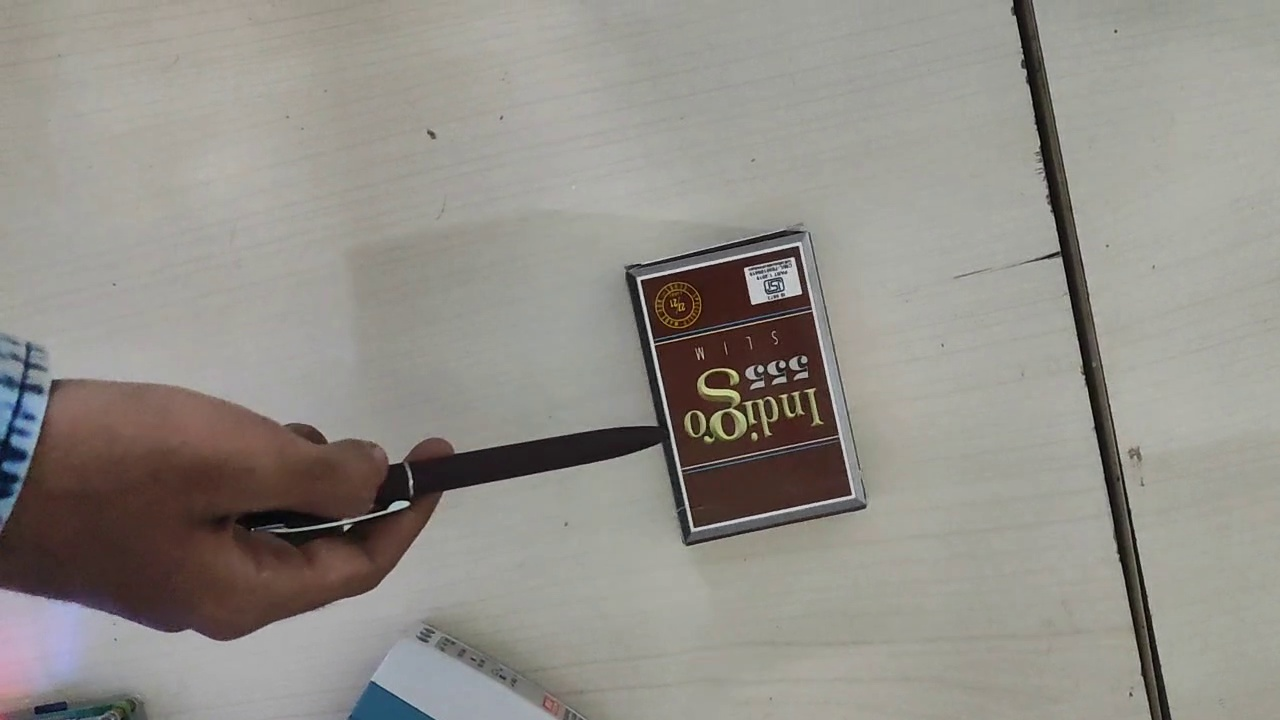BEX: (640, 242, 853, 530)
